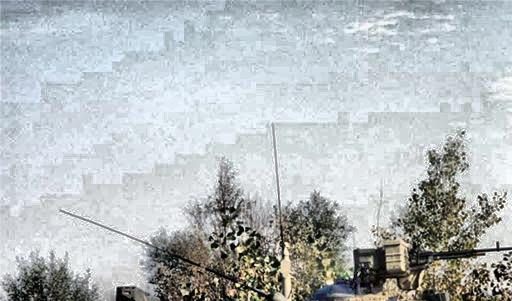tanks: (311, 241, 483, 301), (118, 289, 154, 301)
